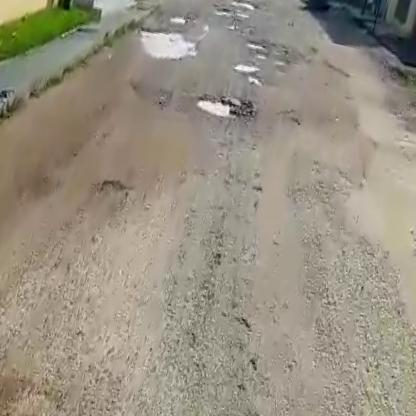pothole: (136, 20, 198, 65), (185, 86, 248, 123), (244, 35, 277, 55), (233, 63, 263, 81)
